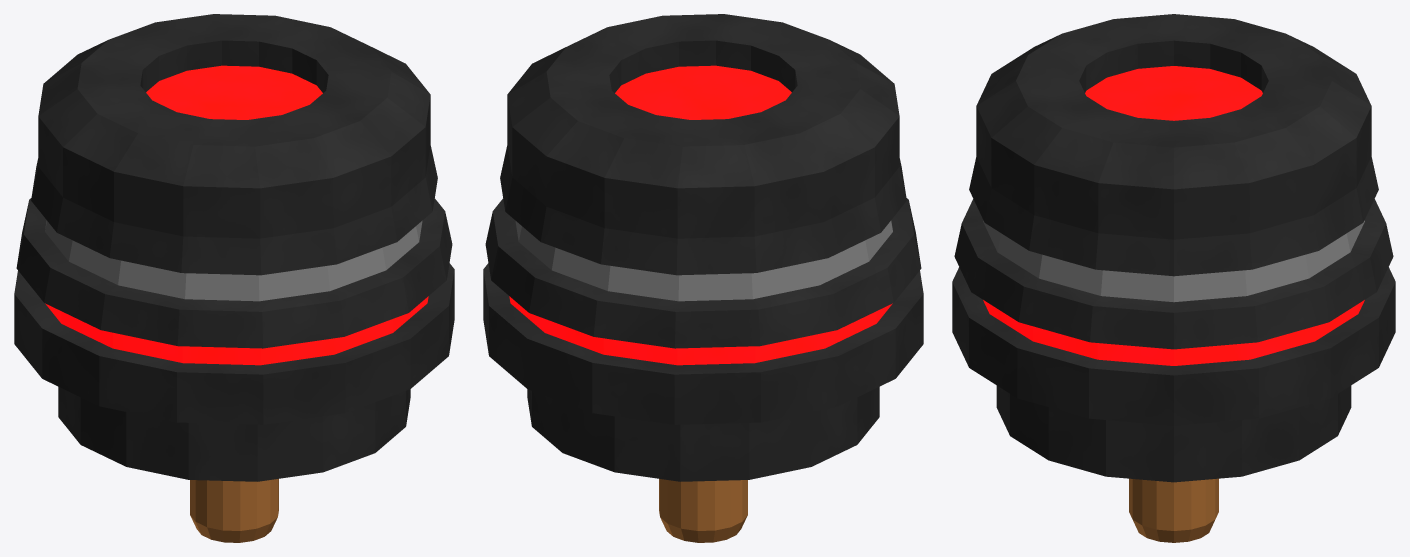
File: plug.glb
3 renders of one model, left to right at view 1: azimuth 30°, elevation 25°; view 2: azimuth 150°, elevation 25°; view 3: azimuth 270°, elevation 25°, orthographic.
Parts seen in each view (by area): view 1: plug; view 2: plug; view 3: plug.
Part boxes in pixels (box(x1,y1,x2,y2)): plug: box(14, 14, 454, 542); plug: box(483, 14, 923, 542); plug: box(952, 14, 1395, 542).
Size of the model in its own units: 0.16 by 0.18 by 0.16.
1 material, 1 textured.
